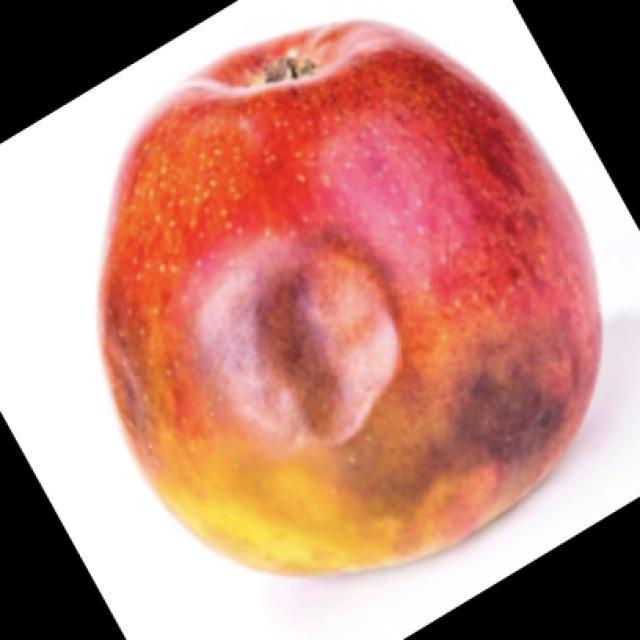Rotten: (104, 40, 578, 565)
